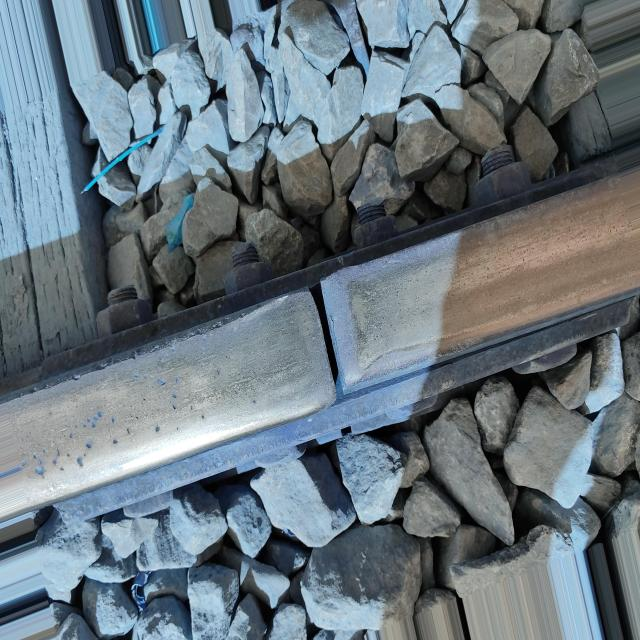crack: (260, 269, 397, 412)
